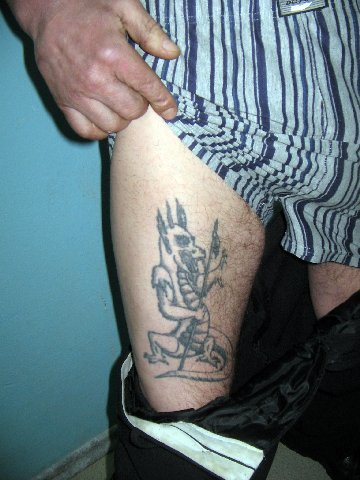tatu6_drakon: (133, 191, 251, 386)
